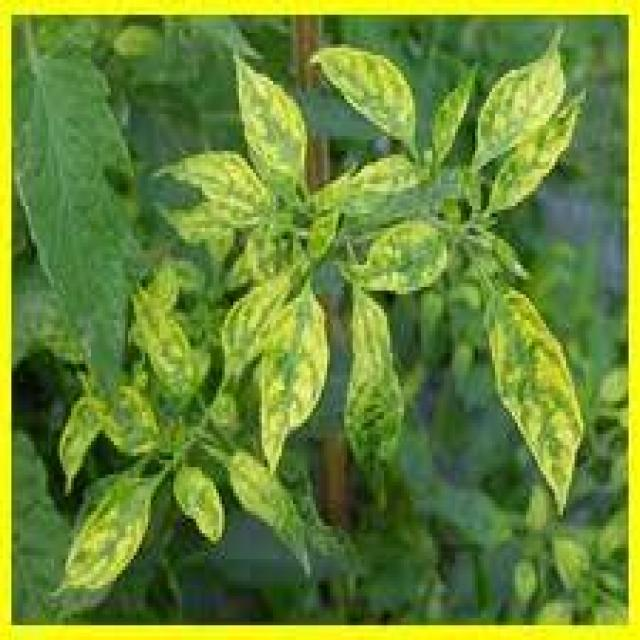virus_kuning: (492, 269, 606, 523), (254, 288, 336, 480), (53, 470, 162, 595), (236, 38, 319, 181)
